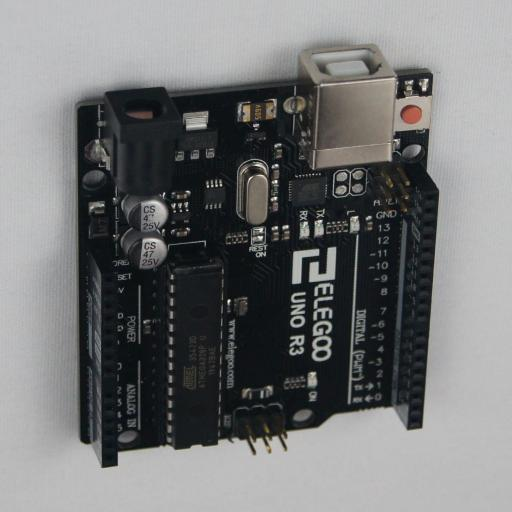Arduino Uno -Black-: (75, 48, 439, 468)
